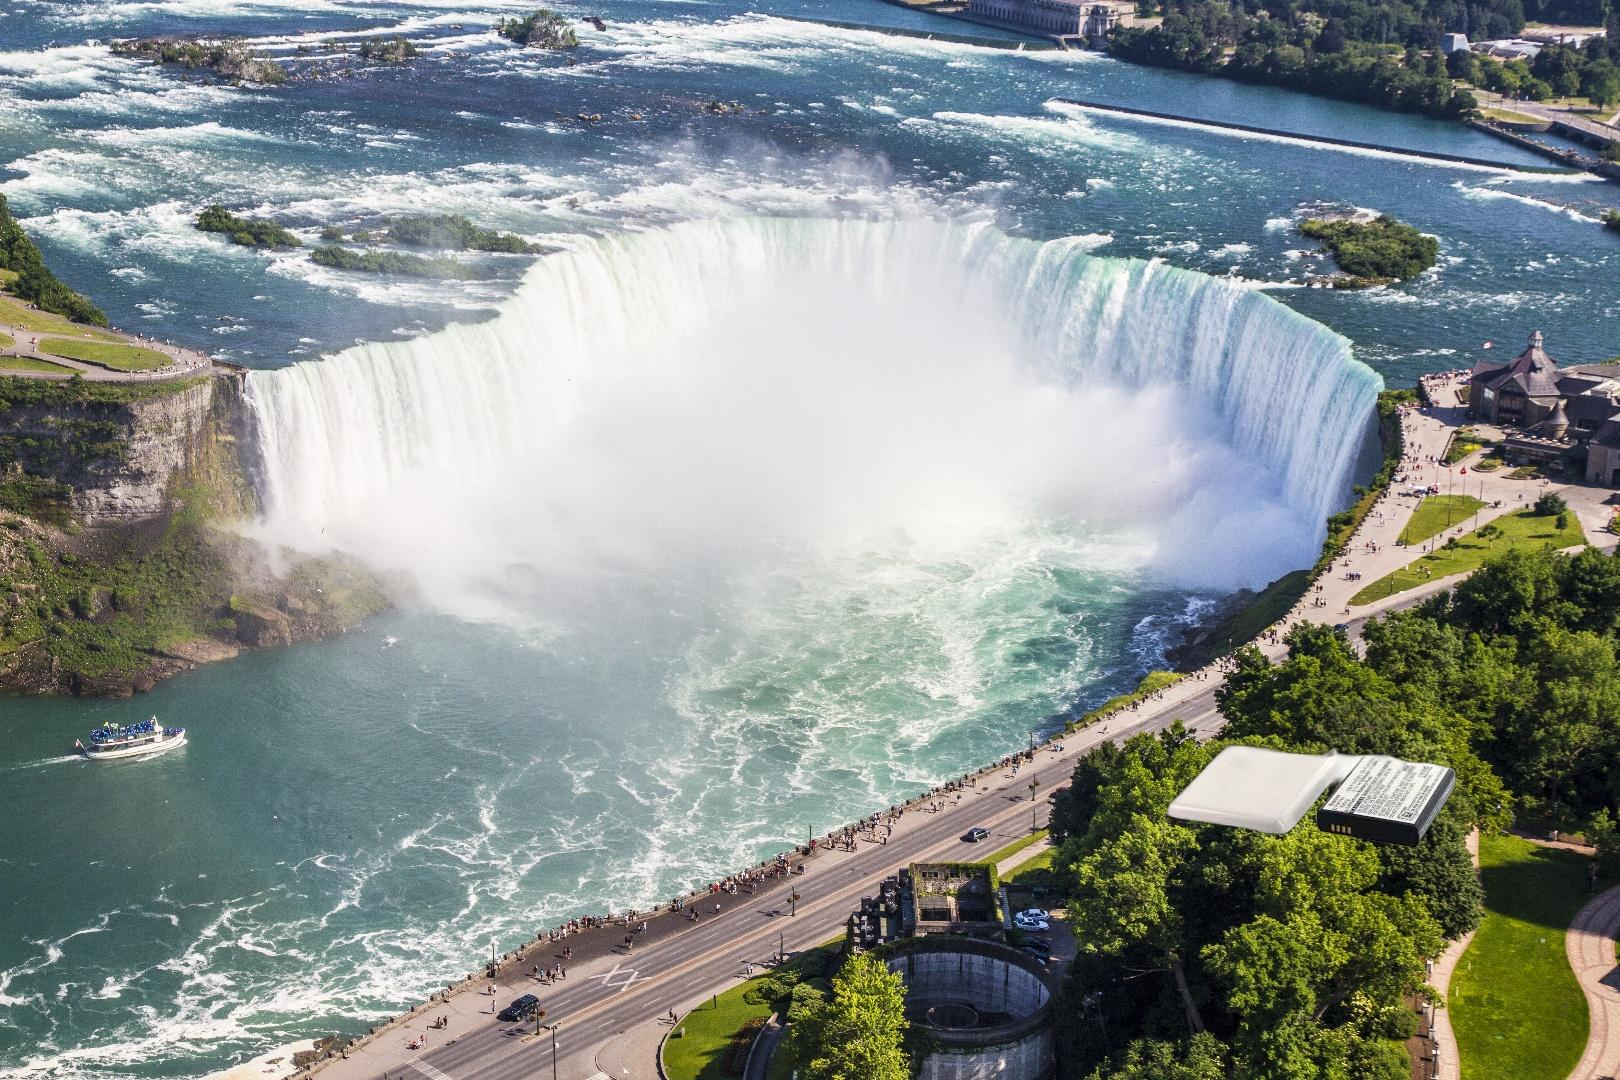battery: (1160, 699, 1458, 850)
